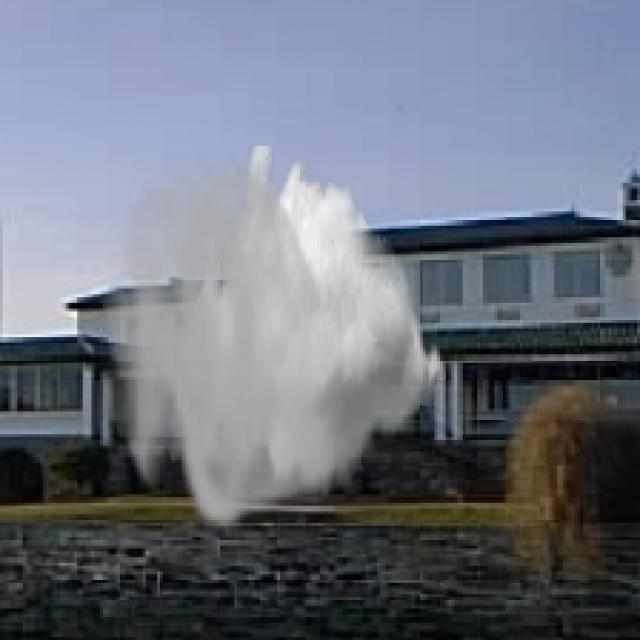smoke: (103, 146, 446, 534)
